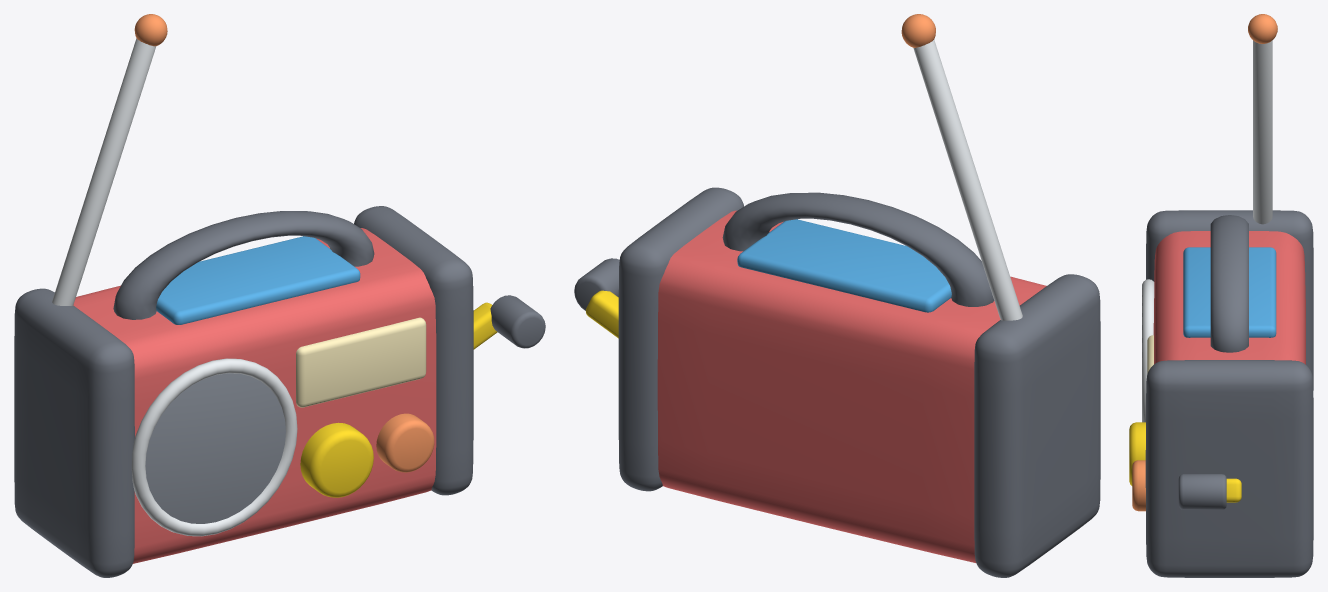
Rendered from SM_EmergencyRadio.fbx.
The picture shows the model from 3 angles, left to right: view 1: azimuth 30°, elevation 25°; view 2: azimuth 150°, elevation 25°; view 3: azimuth 270°, elevation 25°; orthographic projection. The views are drawn at different scales.
Parts seen in each view (by area): view 1: SM_EmergencyRadio; view 2: SM_EmergencyRadio; view 3: SM_EmergencyRadio.
Boxes of the visible parts, x1,y1,x2,y2 form: SM_EmergencyRadio: (14,14,545,577); SM_EmergencyRadio: (574,14,1100,577); SM_EmergencyRadio: (1129,14,1313,577).
Size of the model in its own units: 44 by 44.81 by 16.6.
